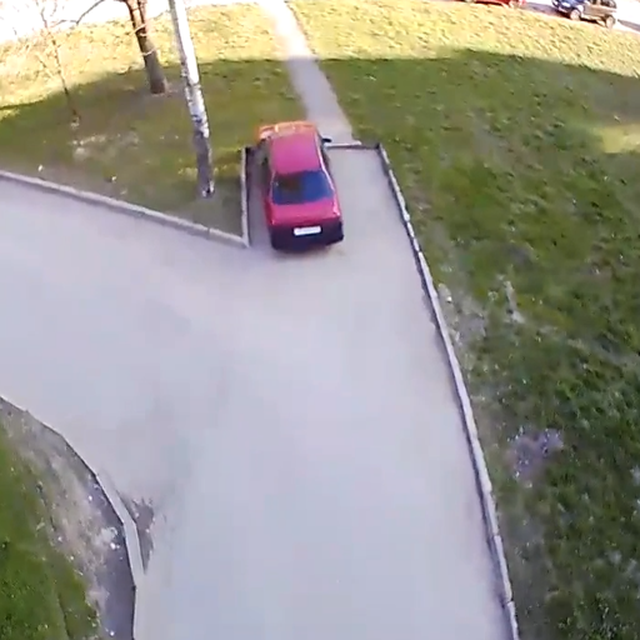car: (255, 121, 343, 250)
